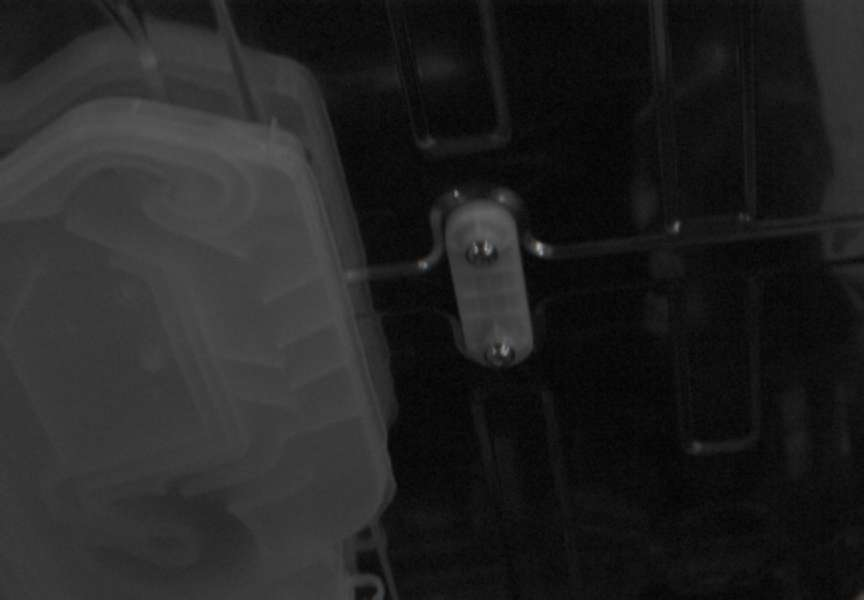screw: (465, 240, 498, 266), (485, 341, 516, 368)
